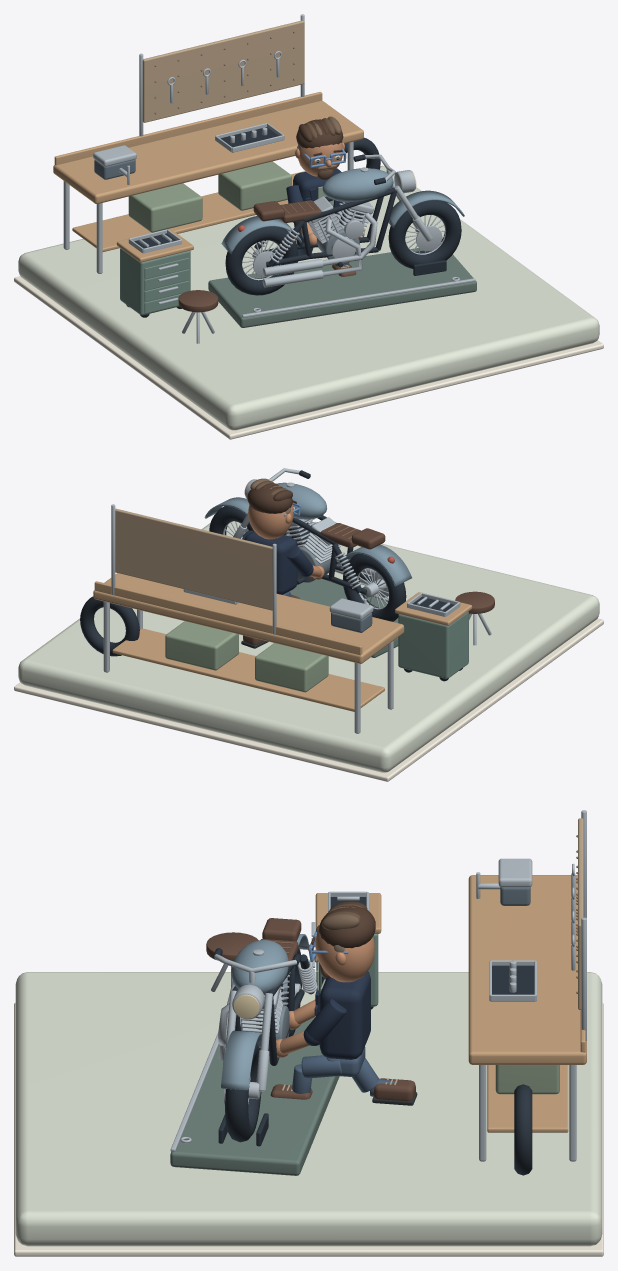
File: fabrication.glb
3 views of the same model, one above another, from view 1: azimuth 30°, elevation 25°; view 2: azimuth 150°, elevation 25°; view 3: azimuth 270°, elevation 25° (orthographic). The views are drawn at different scales.
Visible parts, largest first — view 1: Square floating plinth.004, Pegboard panel, Oak desktop.003, Motorcycle lift, Ivory lower edge.004, Underbench shelf, Parts bin, Parts bin.001, Bench backsplash, Road tire.001, Road tire, Cabinet body (+13 smaller); view 2: Square floating plinth.004, Pegboard panel, Oak desktop.003, Ivory lower edge.004, Underbench shelf, Cabinet body, Bench backsplash, Parts bin.001, Parts bin, Road tire, Spare tire, Motorcycle lift (+18 smaller); view 3: Square floating plinth.004, Oak desktop.003, Motorcycle lift, Ivory lower edge.004, Jacket body.004, Underbench shelf, Teardrop petrol tank, Parts bin.001, Road tire.001, Road fender.001, Face.004, Spare tire (+15 smaller).
Part boxes in pixels (x1=…): Square floating plinth.004: x1=18, y1=165, x2=599, y2=430; Pegboard panel: x1=142, y1=20, x2=304, y2=122; Oak desktop.003: x1=53, y1=100, x2=363, y2=203; Motorcycle lift: x1=208, y1=248, x2=476, y2=327; Ivory lower edge.004: x1=14, y1=276, x2=603, y2=439; Underbench shelf: x1=72, y1=171, x2=305, y2=251; Parts bin: x1=128, y1=183, x2=202, y2=232; Parts bin.001: x1=218, y1=161, x2=291, y2=210; Bench backsplash: x1=54, y1=92, x2=322, y2=165; Road tire.001: x1=388, y1=200, x2=461, y2=268; Road tire: x1=225, y1=227, x2=298, y2=295; Cabinet body: x1=120, y1=248, x2=190, y2=315; Square floating plinth.004: x1=18, y1=521, x2=599, y2=772; Pegboard panel: x1=115, y1=508, x2=272, y2=610; Oak desktop.003: x1=93, y1=573, x2=404, y2=663; Ivory lower edge.004: x1=14, y1=618, x2=603, y2=781; Underbench shelf: x1=112, y1=628, x2=384, y2=711; Cabinet body: x1=398, y1=611, x2=468, y2=678; Bench backsplash: x1=94, y1=581, x2=362, y2=655; Parts bin.001: x1=165, y1=621, x2=238, y2=670; Parts bin: x1=255, y1=643, x2=328, y2=692; Road tire: x1=342, y1=553, x2=406, y2=621; Spare tire: x1=80, y1=596, x2=139, y2=656; Motorcycle lift: x1=290, y1=578, x2=398, y2=657; Square floating plinth.004: x1=15, y1=972, x2=602, y2=1246; Oak desktop.003: x1=468, y1=875, x2=586, y2=1064; Motorcycle lift: x1=170, y1=1017, x2=339, y2=1175; Ivory lower edge.004: x1=14, y1=1002, x2=603, y2=1256; Jacket body.004: x1=319, y1=971, x2=370, y2=1059; Underbench shelf: x1=487, y1=1065, x2=568, y2=1132; Teardrop petrol tank: x1=231, y1=940, x2=288, y2=995; Parts bin.001: x1=495, y1=1065, x2=559, y2=1094; Road tire.001: x1=225, y1=1043, x2=261, y2=1142; Road fender.001: x1=221, y1=1030, x2=261, y2=1090; Face.004: x1=315, y1=927, x2=374, y2=982; Spare tire: x1=514, y1=1084, x2=532, y2=1175.
Bounding box in the file's own units: 5.23 × 2.71 × 5.23.
